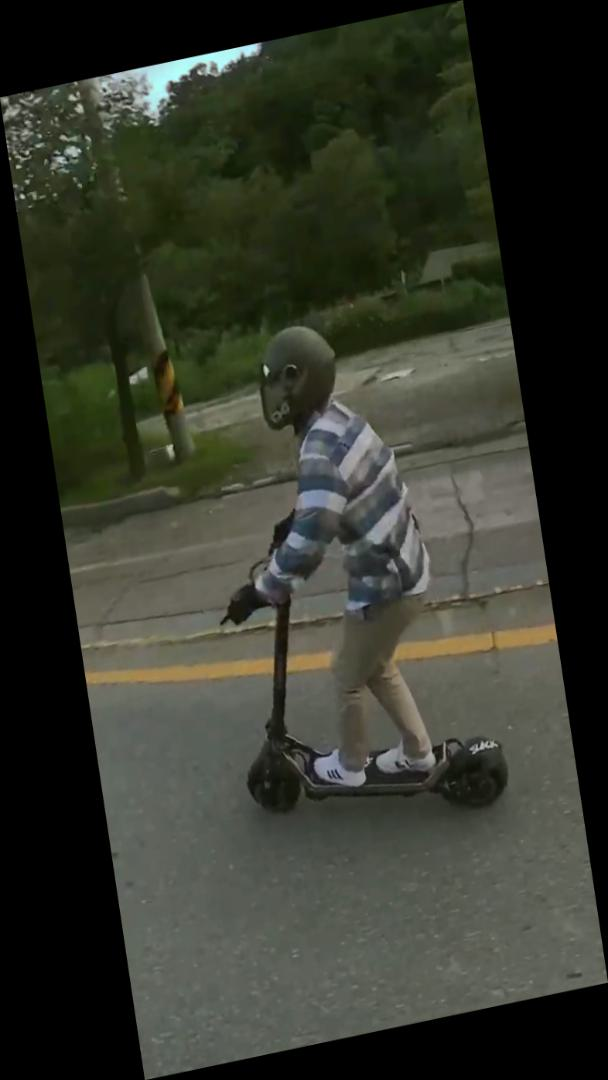helmet: (176, 291, 517, 859)
